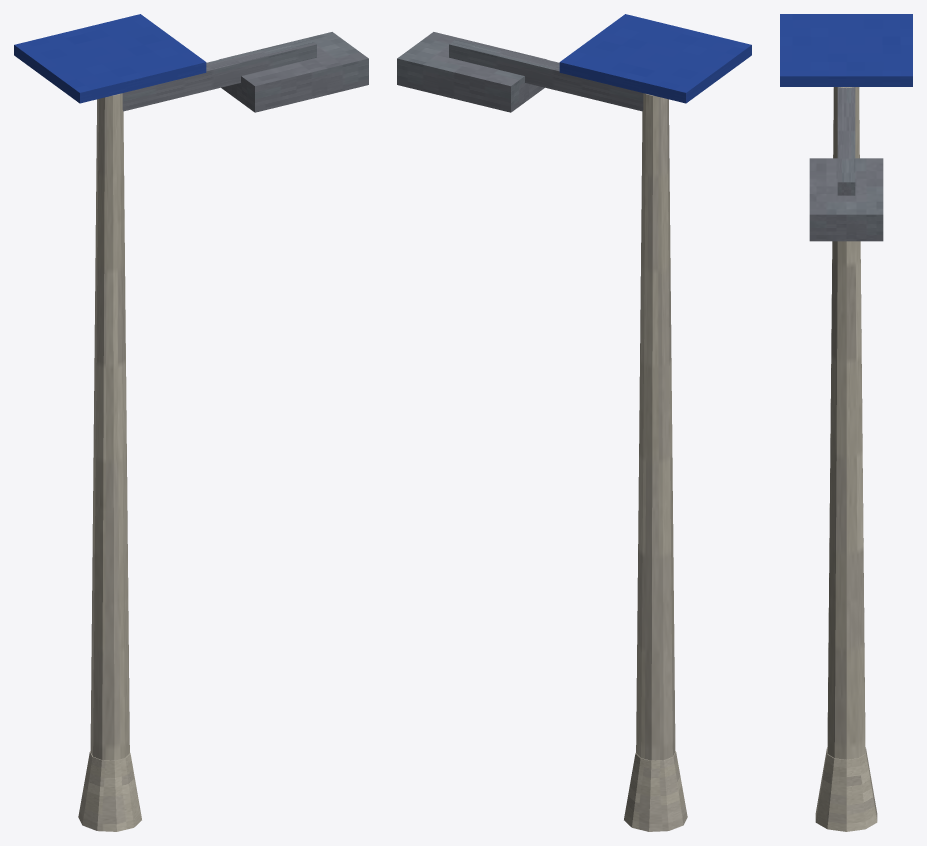
Rendered from lamp-cream.glb.
The picture shows the model from 3 angles, left to right: view 1: azimuth 30°, elevation 25°; view 2: azimuth 150°, elevation 25°; view 3: azimuth 270°, elevation 25°; orthographic projection.
Visible parts, largest first — view 1: lamp-cream; view 2: lamp-cream; view 3: lamp-cream.
Part boxes in pixels (x1,y1,x2,y2): lamp-cream: [14, 14, 368, 831]; lamp-cream: [397, 14, 751, 831]; lamp-cream: [780, 14, 912, 831].
Bounding box in the file's own units: 2.4 × 5.78 × 0.9.
Materials: 1 (1 with a texture image).
